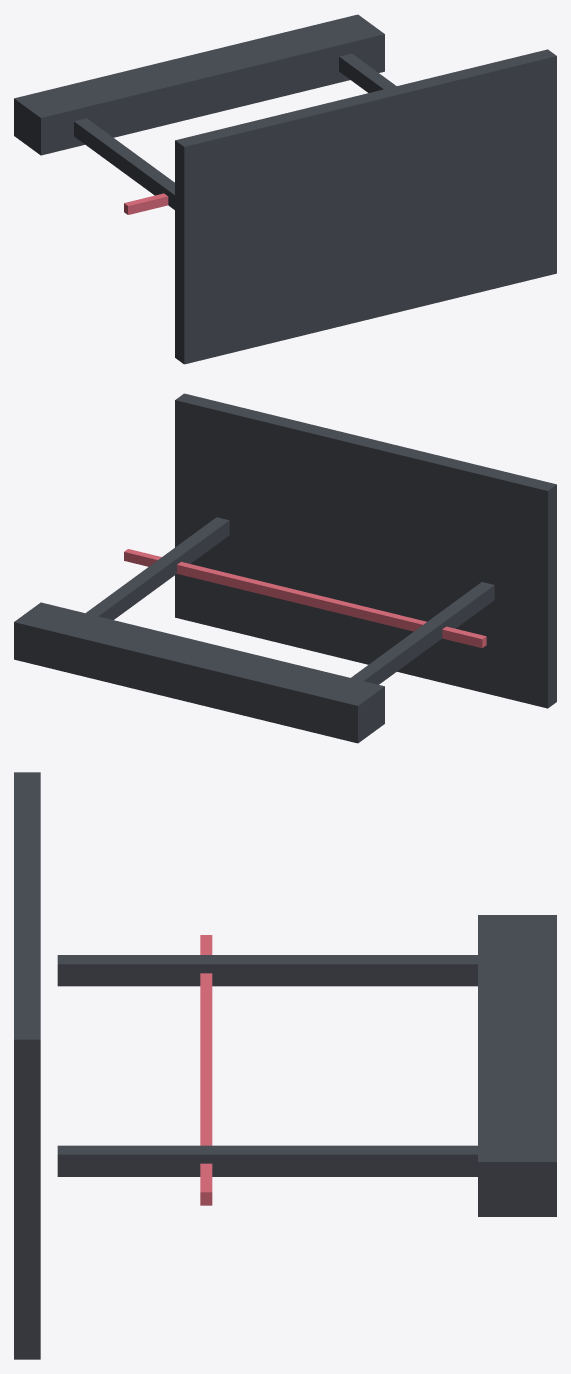
File: milestone_billboard_rig.glb
3 renders of one model, top to bottom at view 1: azimuth 30°, elevation 25°; view 2: azimuth 150°, elevation 25°; view 3: azimuth 270°, elevation 25°, orthographic. The views are drawn at different scales.
Visible parts, largest first — view 1: milestone_billboard_rig_part_0, milestone_billboard_rig_part_5, milestone_billboard_rig_part_3, milestone_billboard_rig_part_4, milestone_billboard_rig_part_2; view 2: milestone_billboard_rig_part_0, milestone_billboard_rig_part_5, milestone_billboard_rig_part_2, milestone_billboard_rig_part_3, milestone_billboard_rig_part_4; view 3: milestone_billboard_rig_part_5, milestone_billboard_rig_part_0, milestone_billboard_rig_part_4, milestone_billboard_rig_part_3, milestone_billboard_rig_part_2.
Boxes of the visible parts, x1,y1,x2,y2 form: milestone_billboard_rig_part_0: (175, 49, 556, 364); milestone_billboard_rig_part_5: (14, 14, 384, 155); milestone_billboard_rig_part_3: (74, 118, 174, 209); milestone_billboard_rig_part_4: (339, 53, 396, 92); milestone_billboard_rig_part_2: (124, 193, 168, 214); milestone_billboard_rig_part_0: (175, 393, 556, 708); milestone_billboard_rig_part_5: (14, 602, 384, 743); milestone_billboard_rig_part_2: (124, 549, 486, 648); milestone_billboard_rig_part_3: (312, 582, 494, 723); milestone_billboard_rig_part_4: (47, 517, 229, 655); milestone_billboard_rig_part_5: (478, 915, 556, 1216); milestone_billboard_rig_part_0: (14, 772, 40, 1359); milestone_billboard_rig_part_4: (57, 1145, 477, 1176); milestone_billboard_rig_part_3: (57, 955, 477, 986); milestone_billboard_rig_part_2: (200, 935, 212, 1205).
Size of the model in its own units: 5.2 by 2.9 by 4.46.
